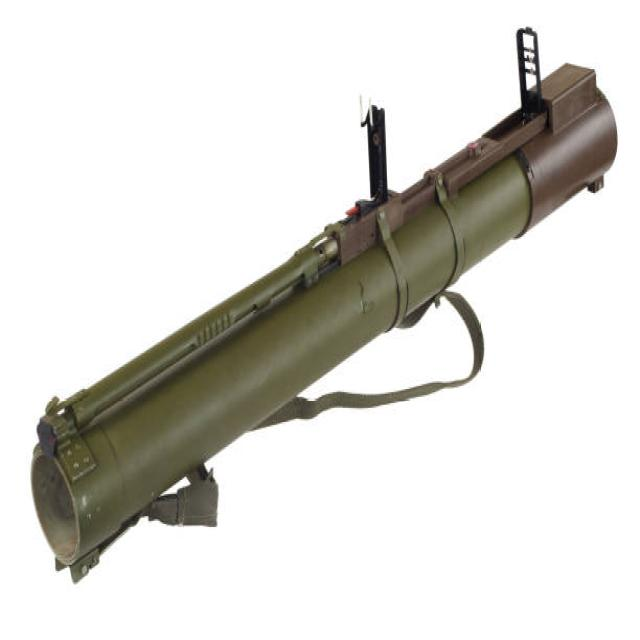bazooka: (27, 18, 627, 593)
